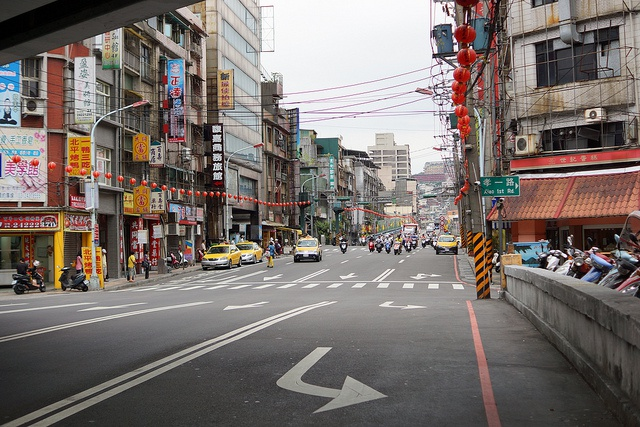non-vehicle: (596, 209, 640, 297), (577, 236, 615, 283), (10, 257, 46, 295), (562, 234, 591, 279), (56, 263, 89, 291), (166, 249, 180, 268), (392, 240, 402, 255), (339, 241, 348, 253), (375, 240, 382, 253), (368, 240, 375, 252), (384, 241, 391, 253), (421, 238, 426, 247), (361, 238, 367, 245)
